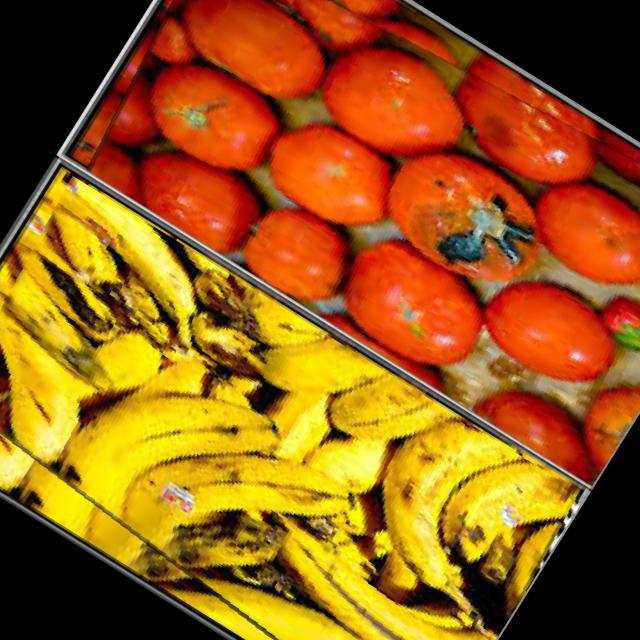Organic: (64, 0, 640, 485), (0, 173, 584, 640)
